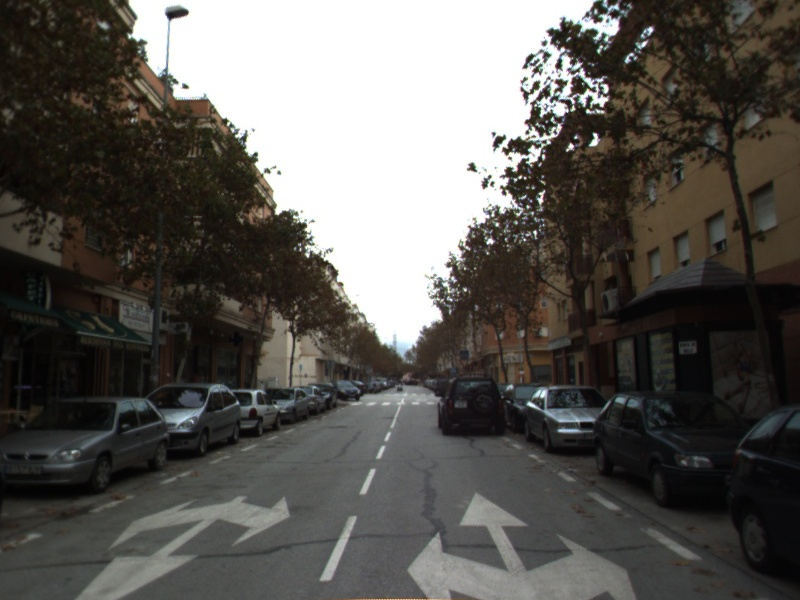STRAIGHT_LEFT_RIGHT: (404, 489, 638, 600)
